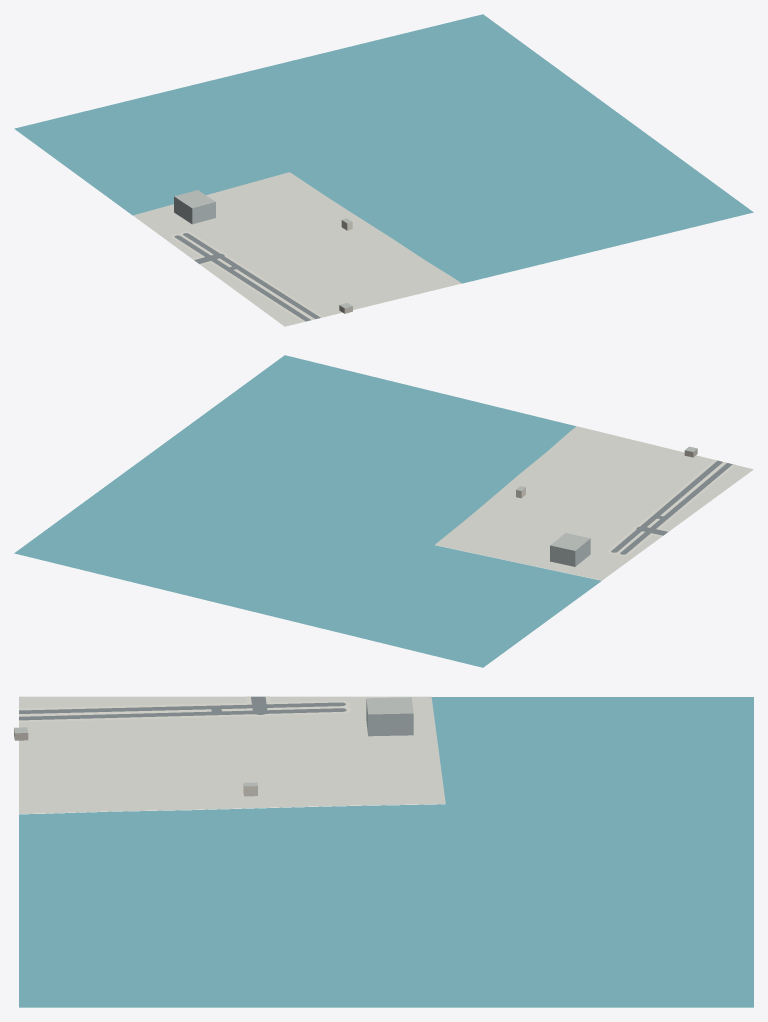
3 renders of one model, top to bottom at view 1: azimuth 30°, elevation 25°; view 2: azimuth 150°, elevation 25°; view 3: azimuth 270°, elevation 25°, orthographic. The views are drawn at different scales.
Visible parts, largest first — view 1: city; view 2: city; view 3: city.
Part boxes in pixels (bbox=[...]): city: bbox=[14, 14, 753, 326]; city: bbox=[14, 355, 753, 667]; city: bbox=[14, 696, 753, 1007].
Bounding box in the file's own units: 500 × 16.58 × 503.
